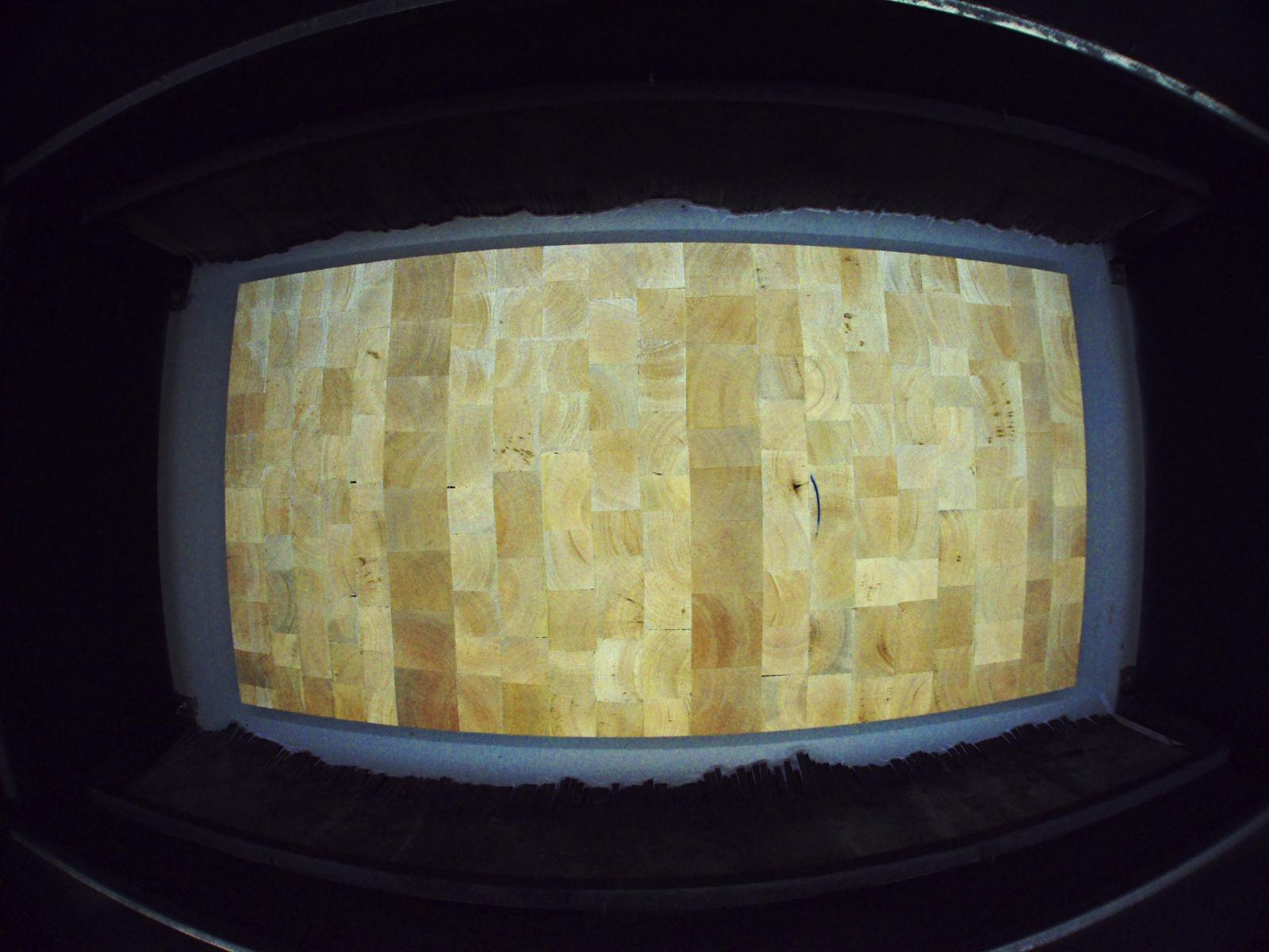sheck_ecuatoriano: (792, 476, 809, 505)
